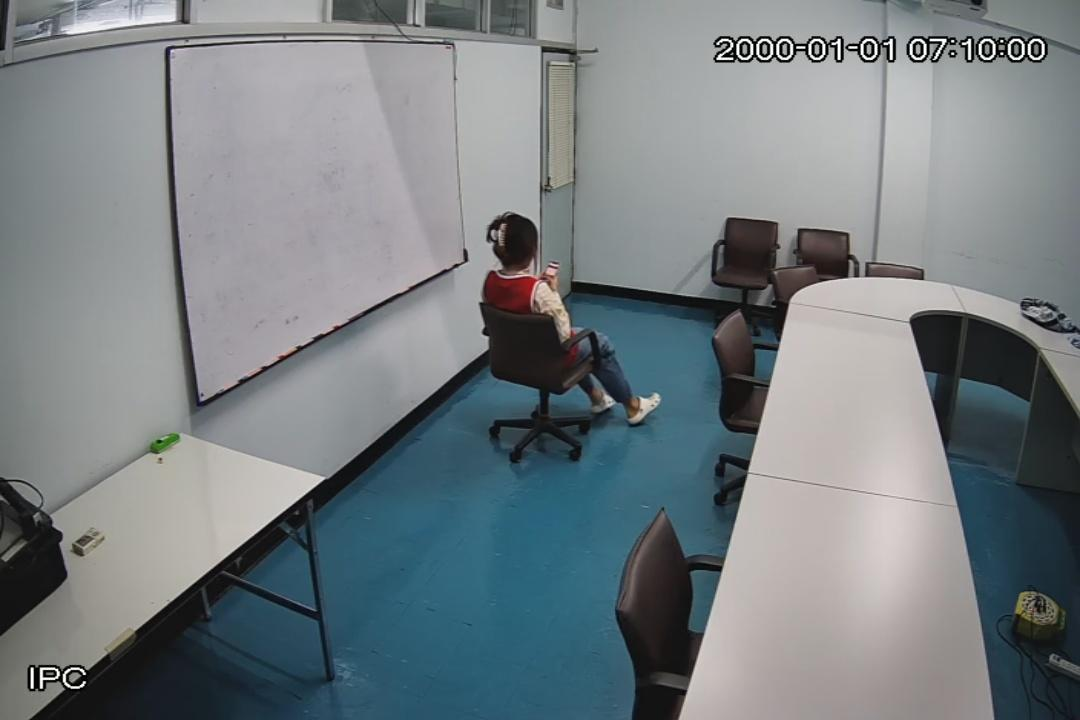normal: (482, 208, 666, 424)
